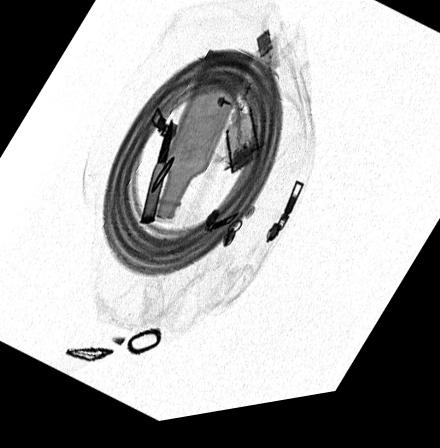Bullet: (139, 121, 173, 229)
